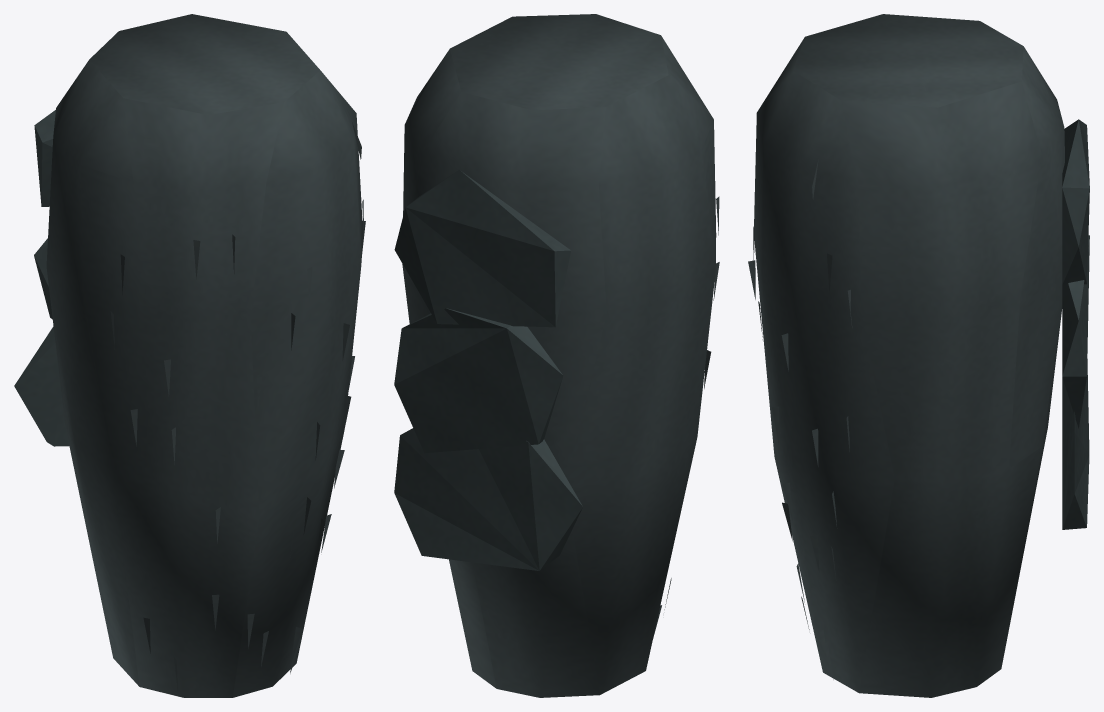
The model's file is thigh_l_lod2.glb.
3 renders of one model, left to right at view 1: azimuth 30°, elevation 25°; view 2: azimuth 150°, elevation 25°; view 3: azimuth 270°, elevation 25°, orthographic.
Parts seen in each view (by area): view 1: dormin_thigh_l_LOD2; view 2: dormin_thigh_l_LOD2; view 3: dormin_thigh_l_LOD2.
Part boxes in pixels (left/top/right/bottom): dormin_thigh_l_LOD2: left=14, top=14, right=365, bottom=697; dormin_thigh_l_LOD2: left=394, top=14, right=719, bottom=697; dormin_thigh_l_LOD2: left=748, top=14, right=1089, bottom=697.
Size of the model in its own units: 1.87 by 3.86 by 1.99.
Materials: 2 (2 with a texture image).
